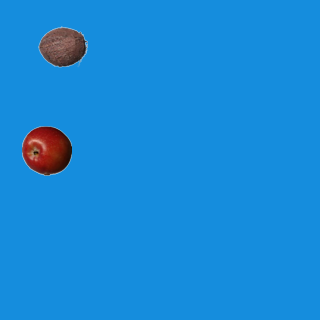Apple Braeburn: (21, 125, 71, 175)
Cocos: (37, 21, 87, 71)
